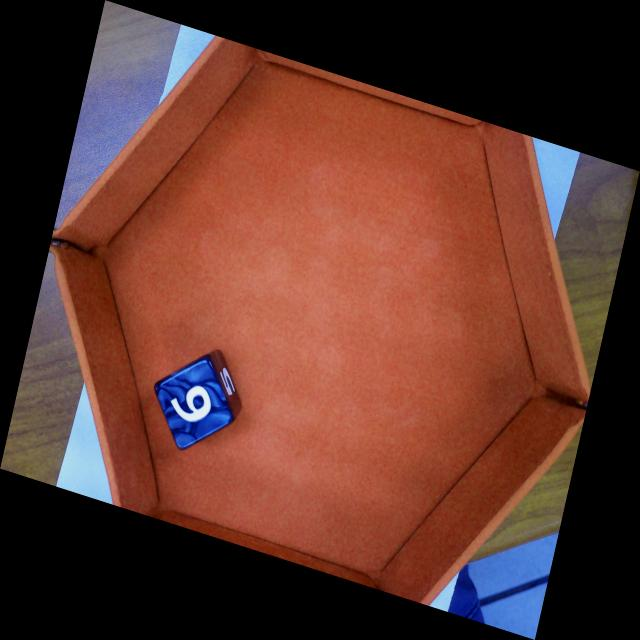dice: (151, 354, 235, 454)
